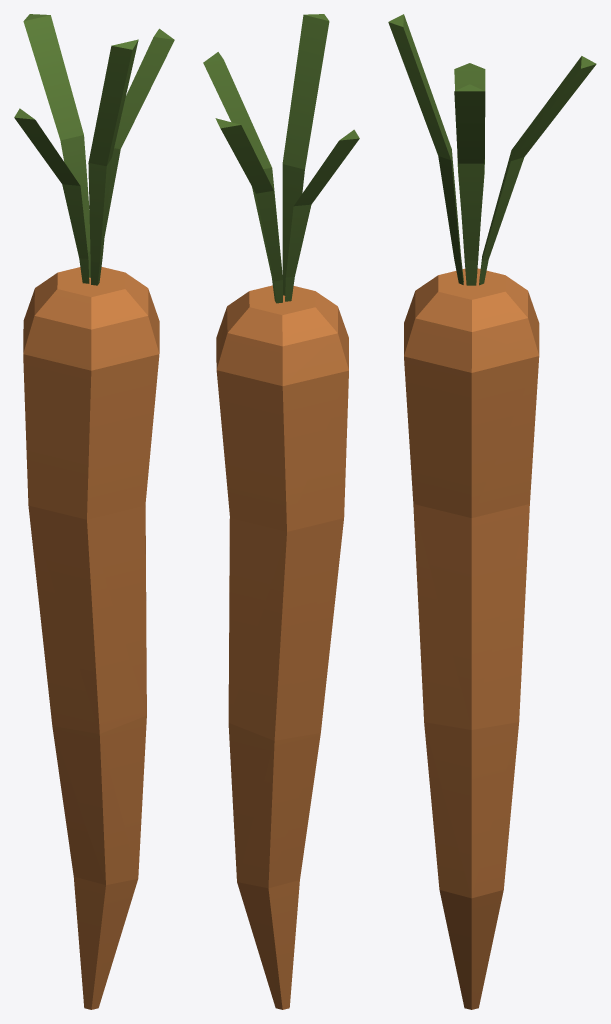
File: Crop_Carrot_03.obj
3 views of the same model, side by side, from view 1: azimuth 30°, elevation 25°; view 2: azimuth 150°, elevation 25°; view 3: azimuth 270°, elevation 25° (orthographic). The views are drawn at different scales.
Visible parts, largest first — view 1: Crop_Carrot_03; view 2: Crop_Carrot_03; view 3: Crop_Carrot_03.
Part boxes in pixels (<box>): Crop_Carrot_03: <box>14,14,174,1009</box>; Crop_Carrot_03: <box>203,14,359,1009</box>; Crop_Carrot_03: <box>388,14,596,1009</box>.
Size of the model in its own units: 0.0828 by 0.5114 by 0.0981.
Materials: 1 (1 with a texture image).
